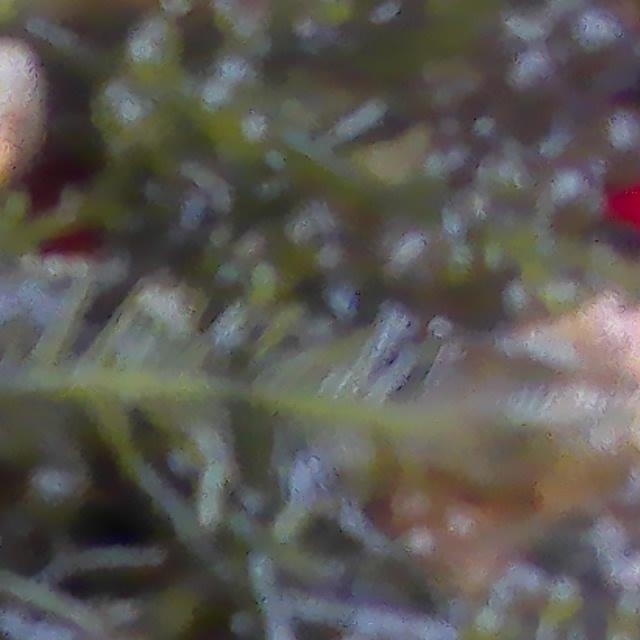SeaGrape: (548, 3, 640, 91), (390, 206, 448, 287), (506, 57, 572, 122), (544, 173, 604, 234), (595, 110, 640, 182)
